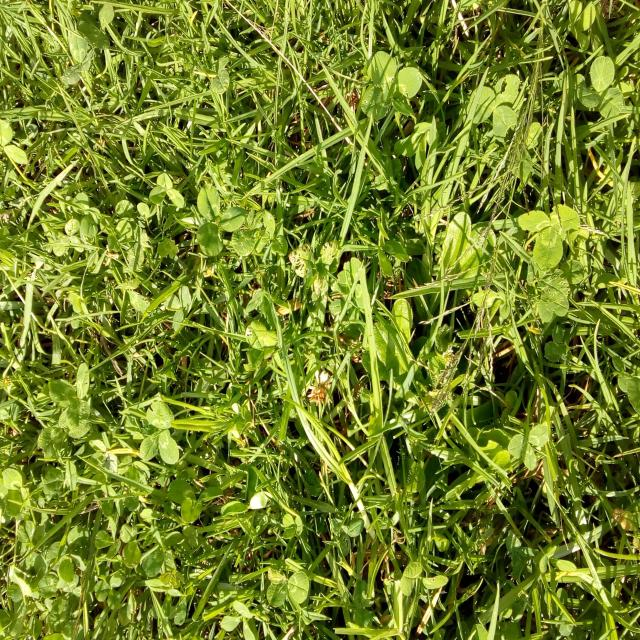Four Leaf Clover: (360, 49, 423, 120)
